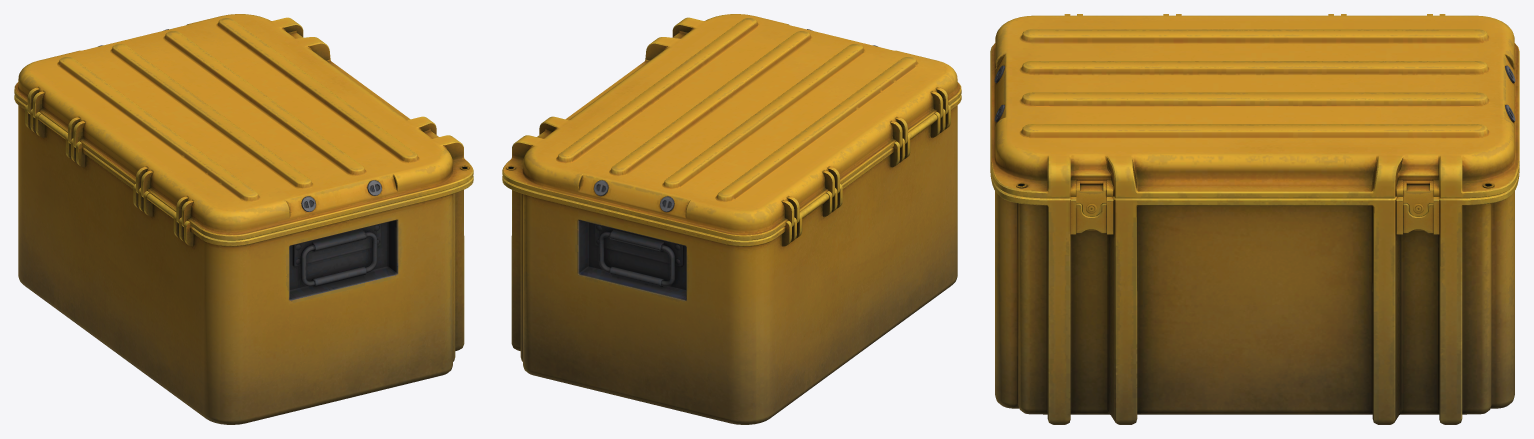
File: cs_dropcrate.fbx
The picture shows the model from 3 angles, left to right: view 1: azimuth 30°, elevation 25°; view 2: azimuth 150°, elevation 25°; view 3: azimuth 270°, elevation 25°; orthographic projection. The views are drawn at different scales.
Parts seen in each view (by area): view 1: cs_dropcrate; view 2: cs_dropcrate; view 3: cs_dropcrate.
Part boxes in pixels (box(x1,y1,x2,y2)): cs_dropcrate: box(14, 14, 473, 424); cs_dropcrate: box(502, 14, 961, 424); cs_dropcrate: box(990, 14, 1519, 424).
Bounding box in the file's own units: 32.13 × 24.29 × 44.12.
Materials: 3 (3 with a texture image).
